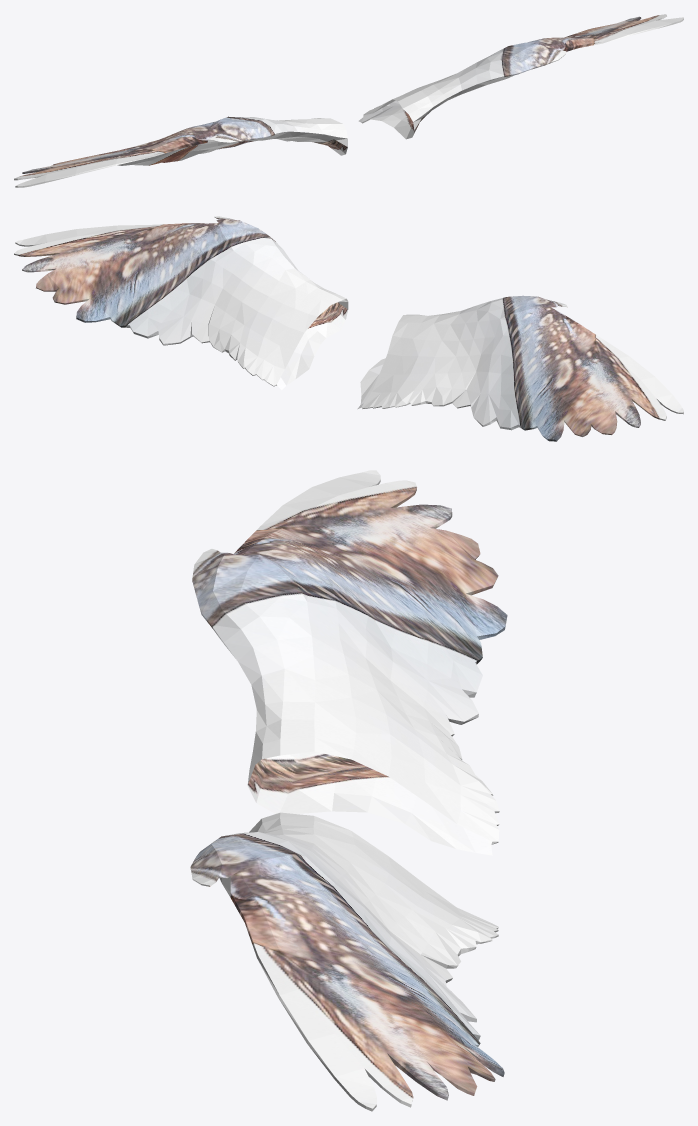
The model's file is alas.obj.
3 renders of one model, top to bottom at view 1: azimuth 30°, elevation 25°; view 2: azimuth 150°, elevation 25°; view 3: azimuth 270°, elevation 25°, orthographic. The views are drawn at different scales.
Visible parts, largest first — view 1: polySurface6; view 2: polySurface6; view 3: polySurface6.
Part boxes in pixels (x1,y1,x2,y2): polySurface6: (14,14,683,187); polySurface6: (14,216,683,441); polySurface6: (190,470,507,1111).
Size of the model in its own units: 3.79 by 0.5066 by 0.78.
